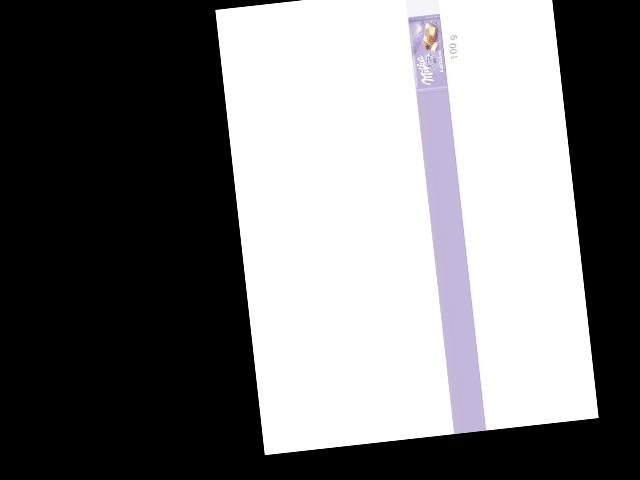chocolate: (406, 12, 453, 93)
